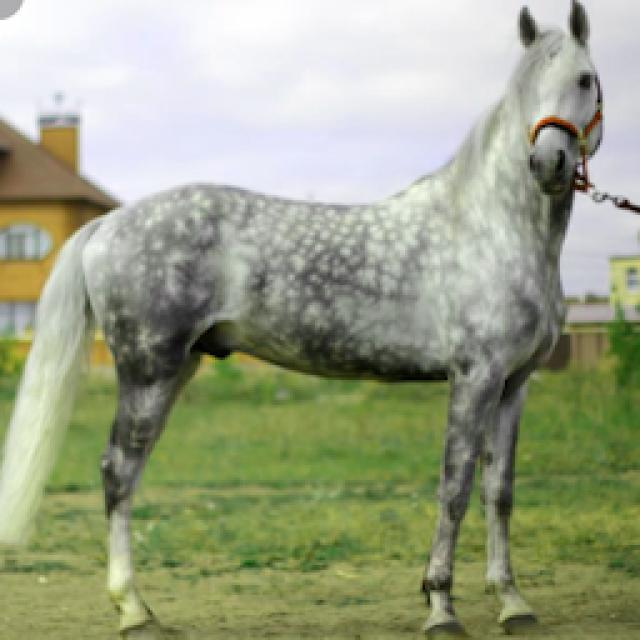Horse: (2, 0, 612, 638)
